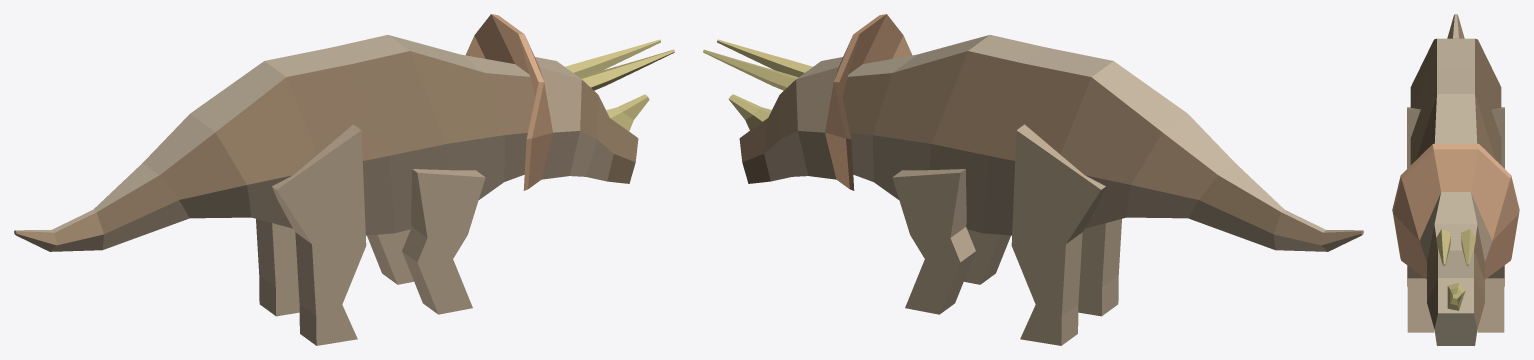
The model's file is trike_pref.fbx.
3 views of the same model, side by side, from view 1: azimuth 30°, elevation 25°; view 2: azimuth 150°, elevation 25°; view 3: azimuth 270°, elevation 25° (orthographic). The views are drawn at different scales.
Parts seen in each view (by area): view 1: Cube.001; view 2: Cube.001; view 3: Cube.001.
Boxes of the visible parts, bbox=[...] form: Cube.001: bbox=[14, 14, 674, 345]; Cube.001: bbox=[703, 14, 1363, 345]; Cube.001: bbox=[1392, 14, 1519, 345].
Size of the model in its own units: 442 by 170 by 87.23.
